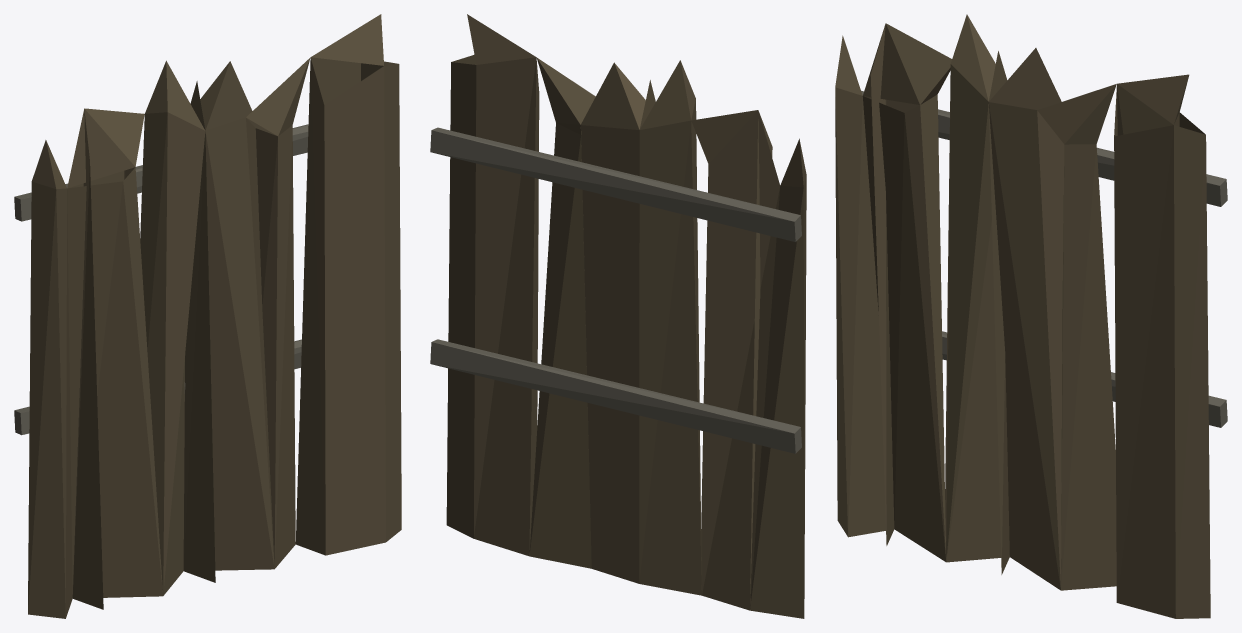
Rendered from palisade-lod1.glb.
The picture shows the model from 3 angles, left to right: view 1: azimuth 30°, elevation 25°; view 2: azimuth 150°, elevation 25°; view 3: azimuth 330°, elevation 25°; orthographic projection. The views are drawn at different scales.
Bounding box in the file's own units: 3.98 × 5.43 × 0.5138.
